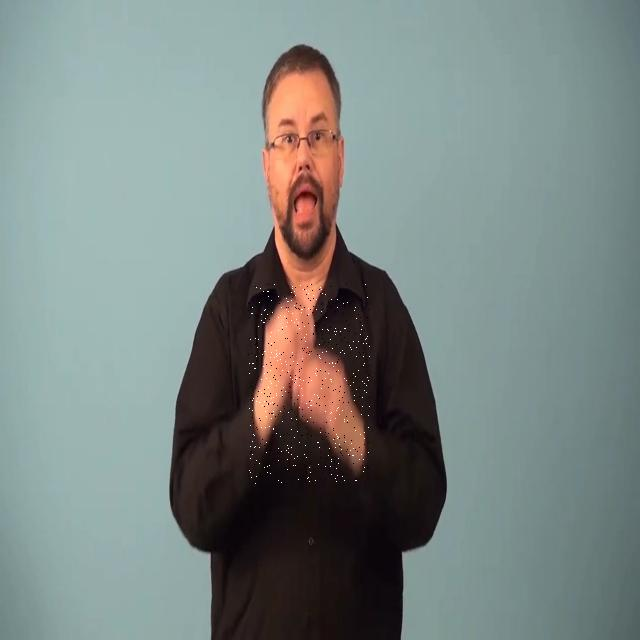juicy: (248, 284, 370, 486)
